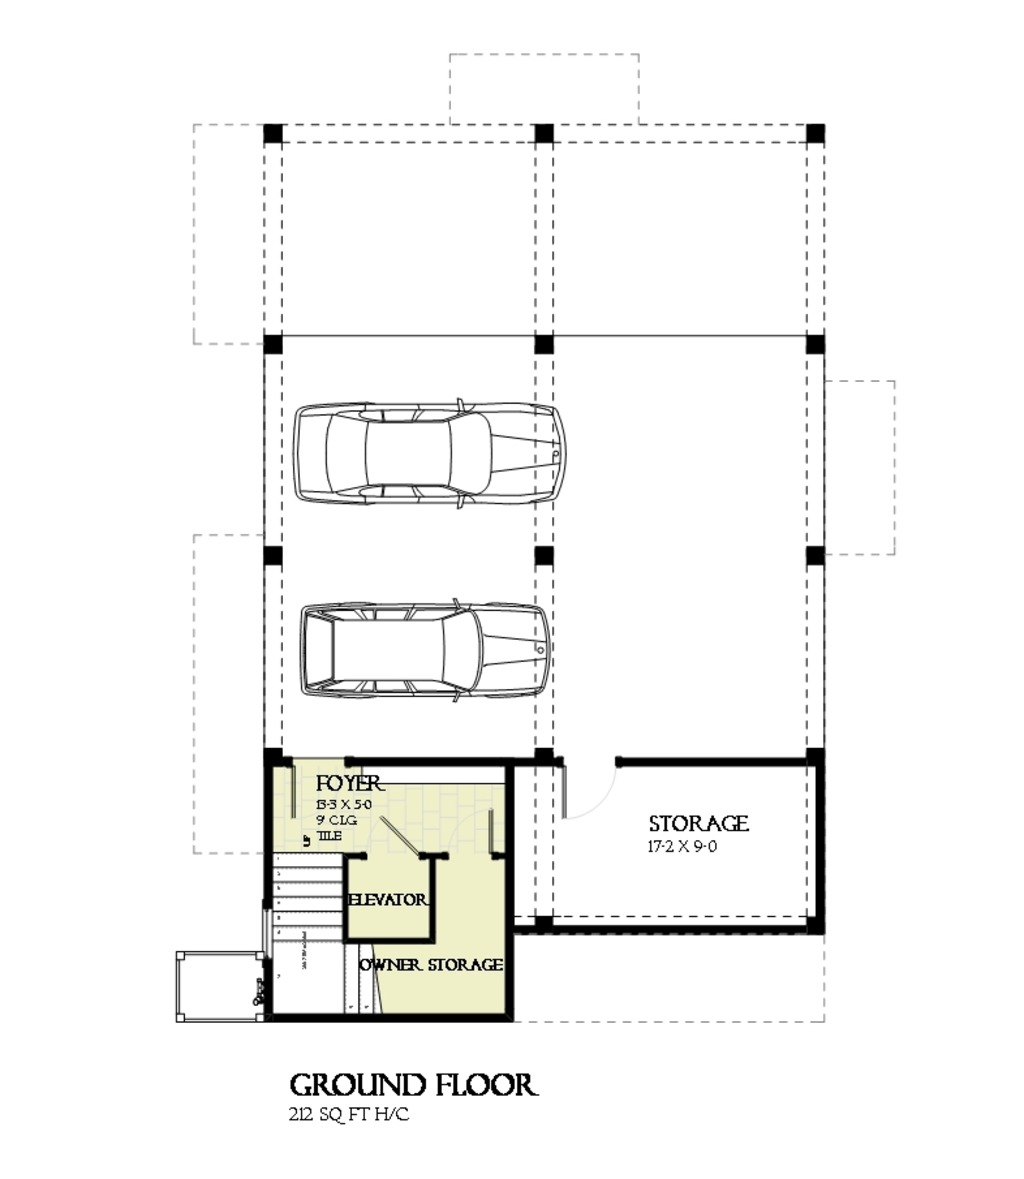door: (555, 745, 621, 820)
stairs: (273, 842, 389, 1017)
